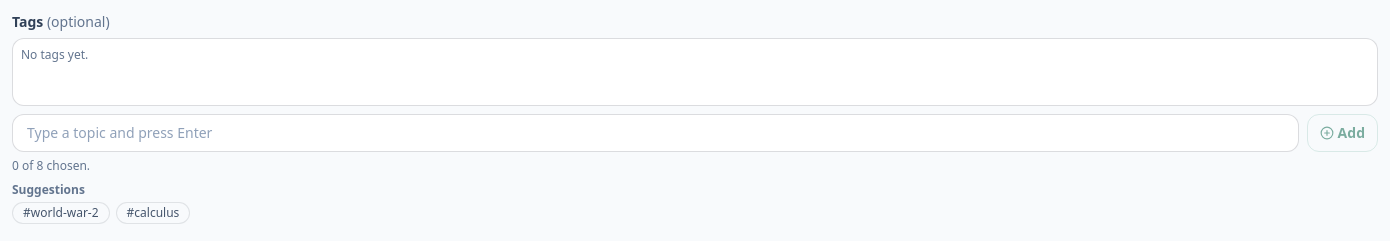
Test: TagSelectorComponent — refusing a tag out loud › previews what the draft will be stored as, before it is committed
Step 1. Type "World War 2" into the field with test id "tag-input" → (655, 133), box [12,114,1299,152]
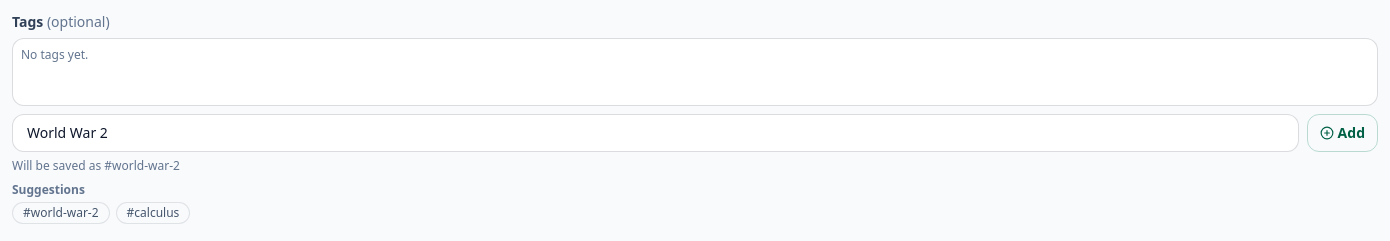
Result: the text with test id "tag-feedback" shows "#world-war-2" at [12,157,180,174]
